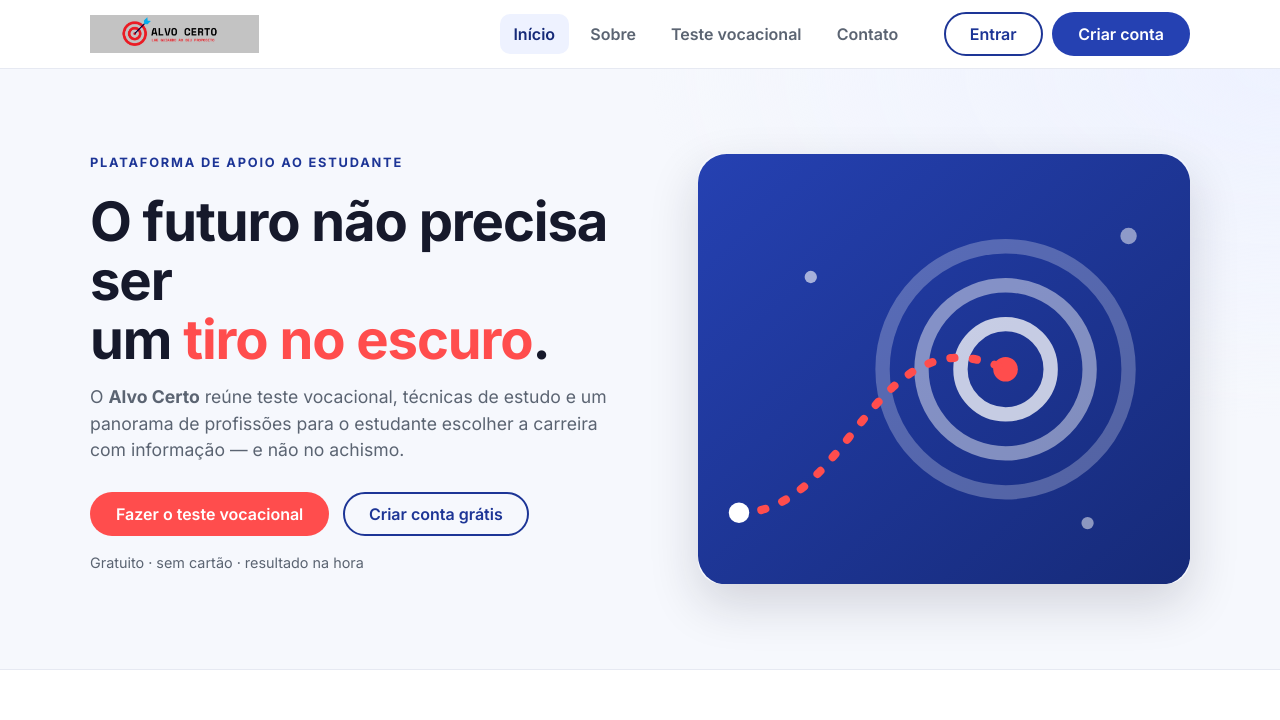
Navegação principal do site › navega para o Teste Vocacional
Click the link "Teste vocacional": [737, 34] box [671,24,802,44]
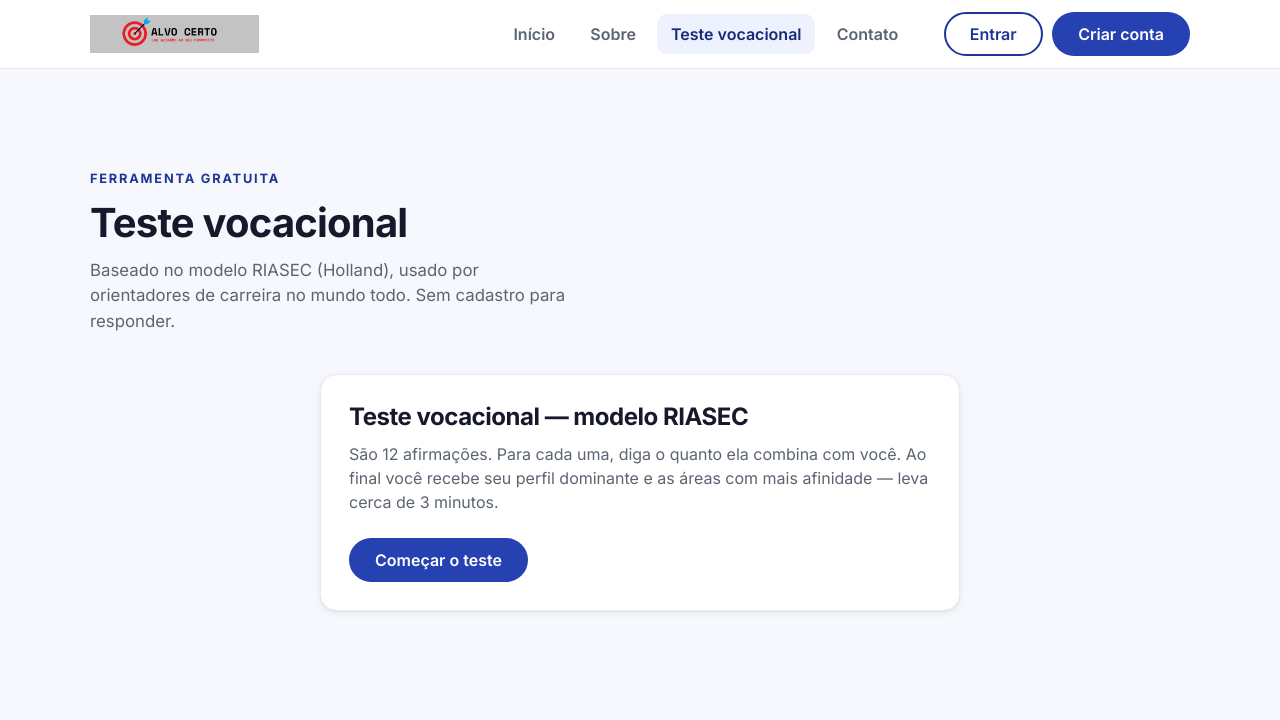
Now the button "Começar o teste" is shown, box [349,538,528,582]
